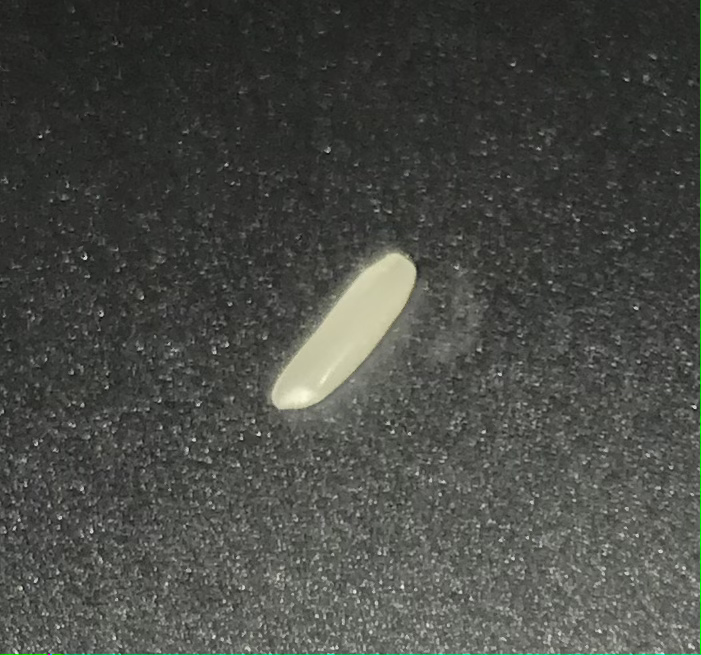Gao Thom My: (261, 240, 419, 417)
